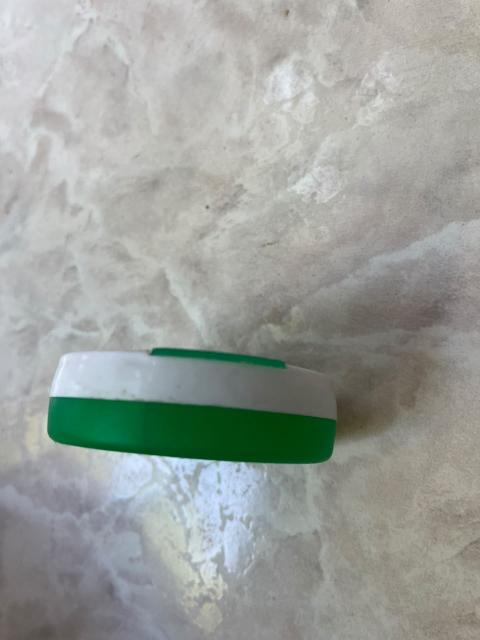HDPE: (45, 338, 354, 496)
